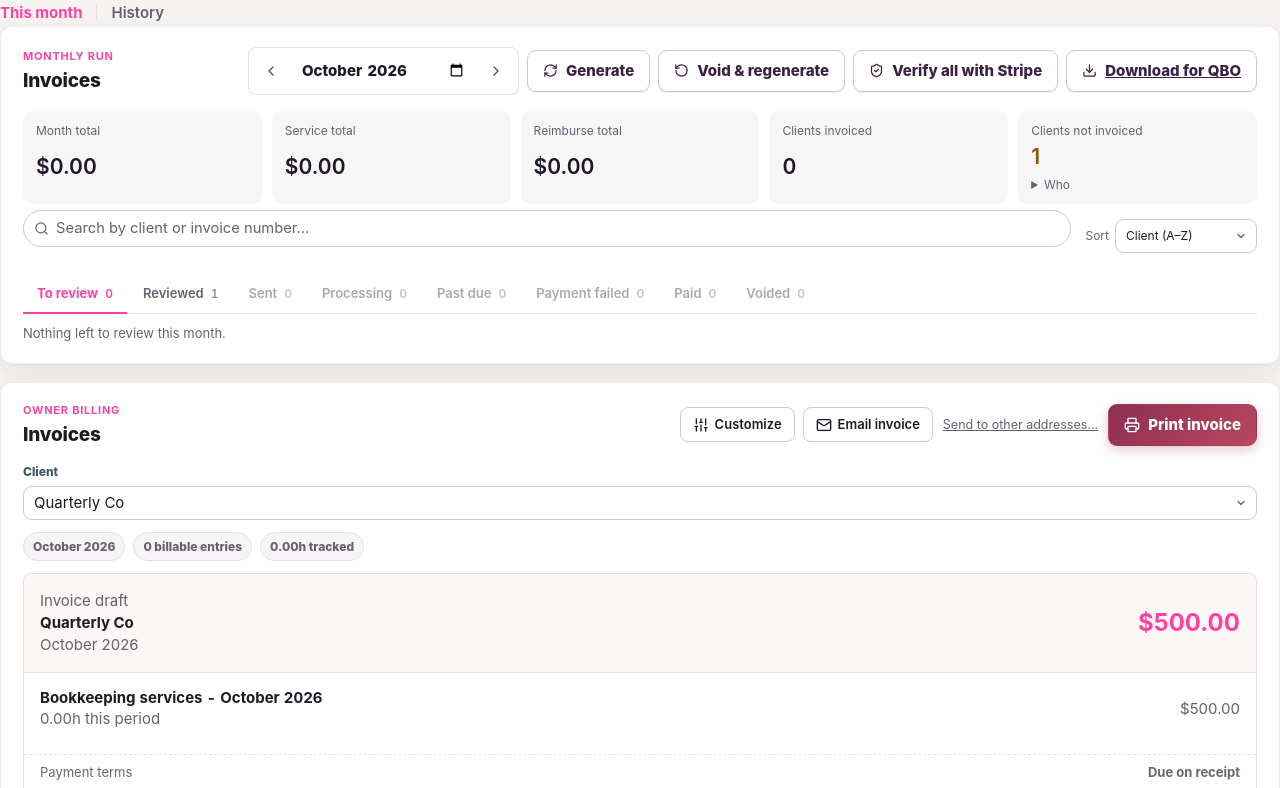
Test case: Email invoice and the billing-period hold › a hold with no override shows its sentence and OK only, inline
Step 1. Click the button "Email invoice" → (868, 425), box x1=803 y1=407 x2=933 y2=442
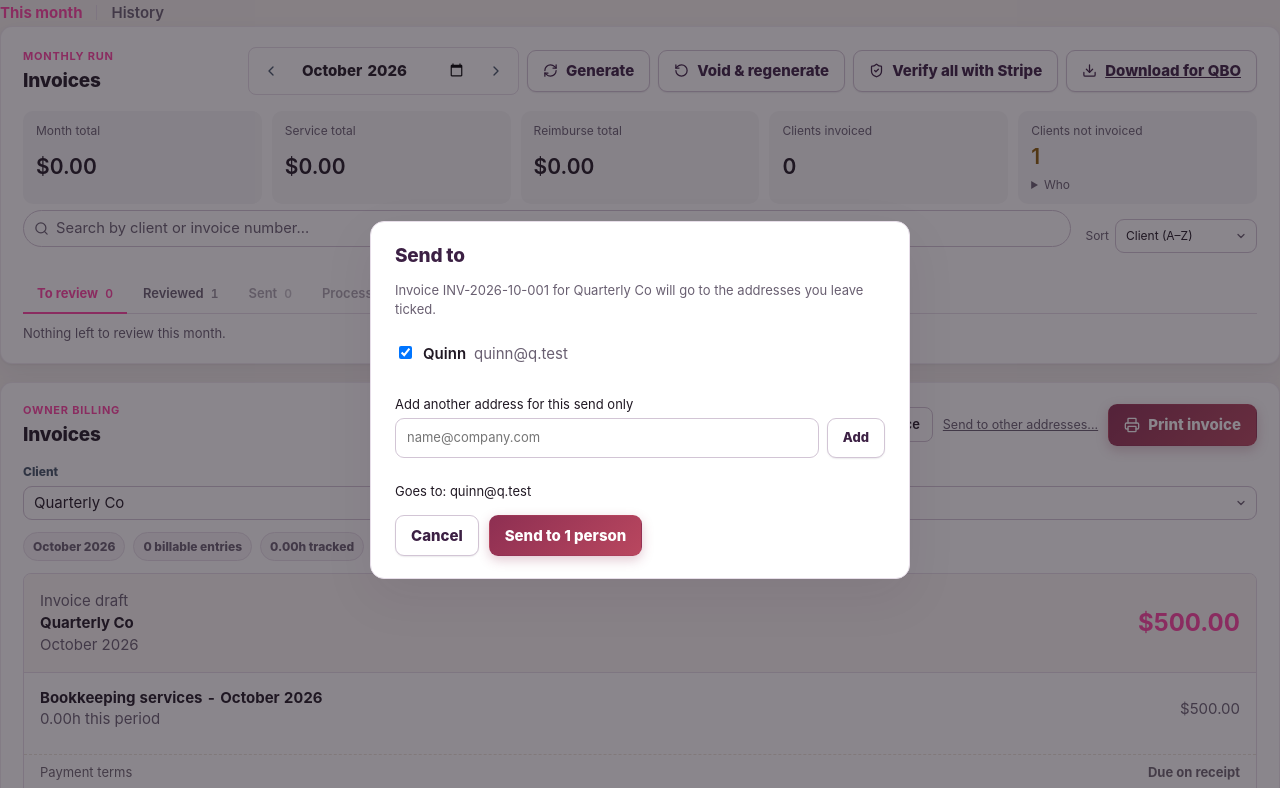
Step 2. Click the button "Send to 1 person" → (566, 536), box x1=489 y1=515 x2=642 y2=556
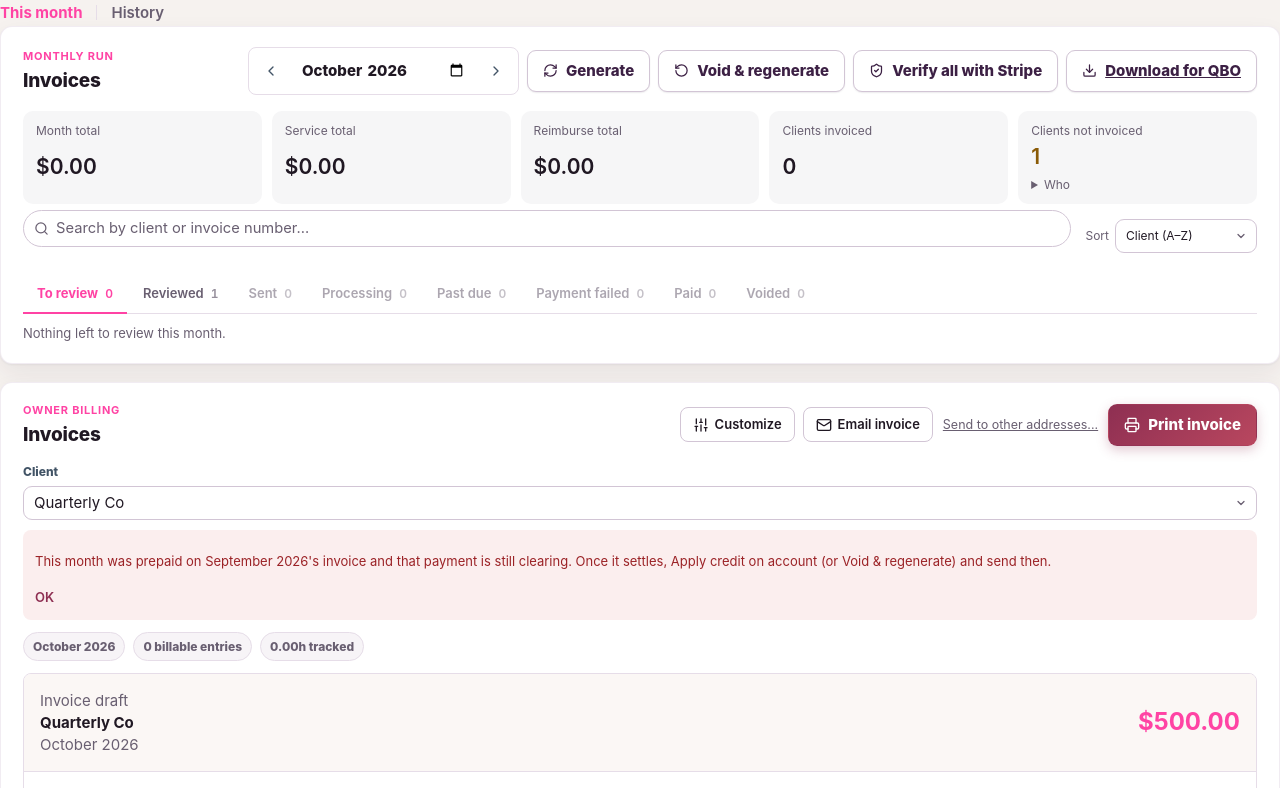
Expected: the text "This month was prepaid on September 2026's invoice and that payment is still clearing. Once it settles, Apply credit on " is shown, x1=35 y1=553 x2=1051 y2=569
Expected: the button "OK" is shown, x1=35 y1=584 x2=54 y2=611
